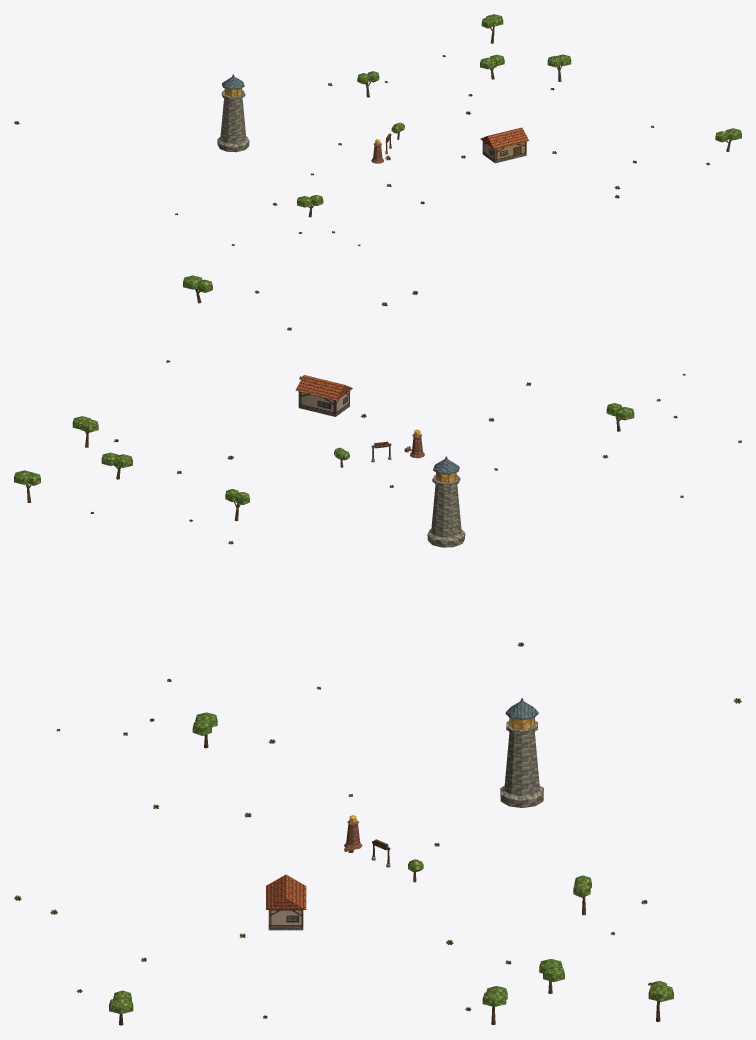
File: FieldCell_0_1.fbx
3 renders of one model, top to bottom at view 1: azimuth 30°, elevation 25°; view 2: azimuth 150°, elevation 25°; view 3: azimuth 270°, elevation 25°, orthographic. The views are drawn at different scales.
Visible parts, largest first — view 1: FieldCell_0_1; view 2: FieldCell_0_1; view 3: FieldCell_0_1.
Part boxes in pixels (left/top/right/bottom): FieldCell_0_1: left=217, top=14, right=741, bottom=217; FieldCell_0_1: left=14, top=275, right=634, bottom=547; FieldCell_0_1: left=109, top=698, right=673, bottom=1025.
Size of the model in its own units: 14806 by 2196 by 13002.
